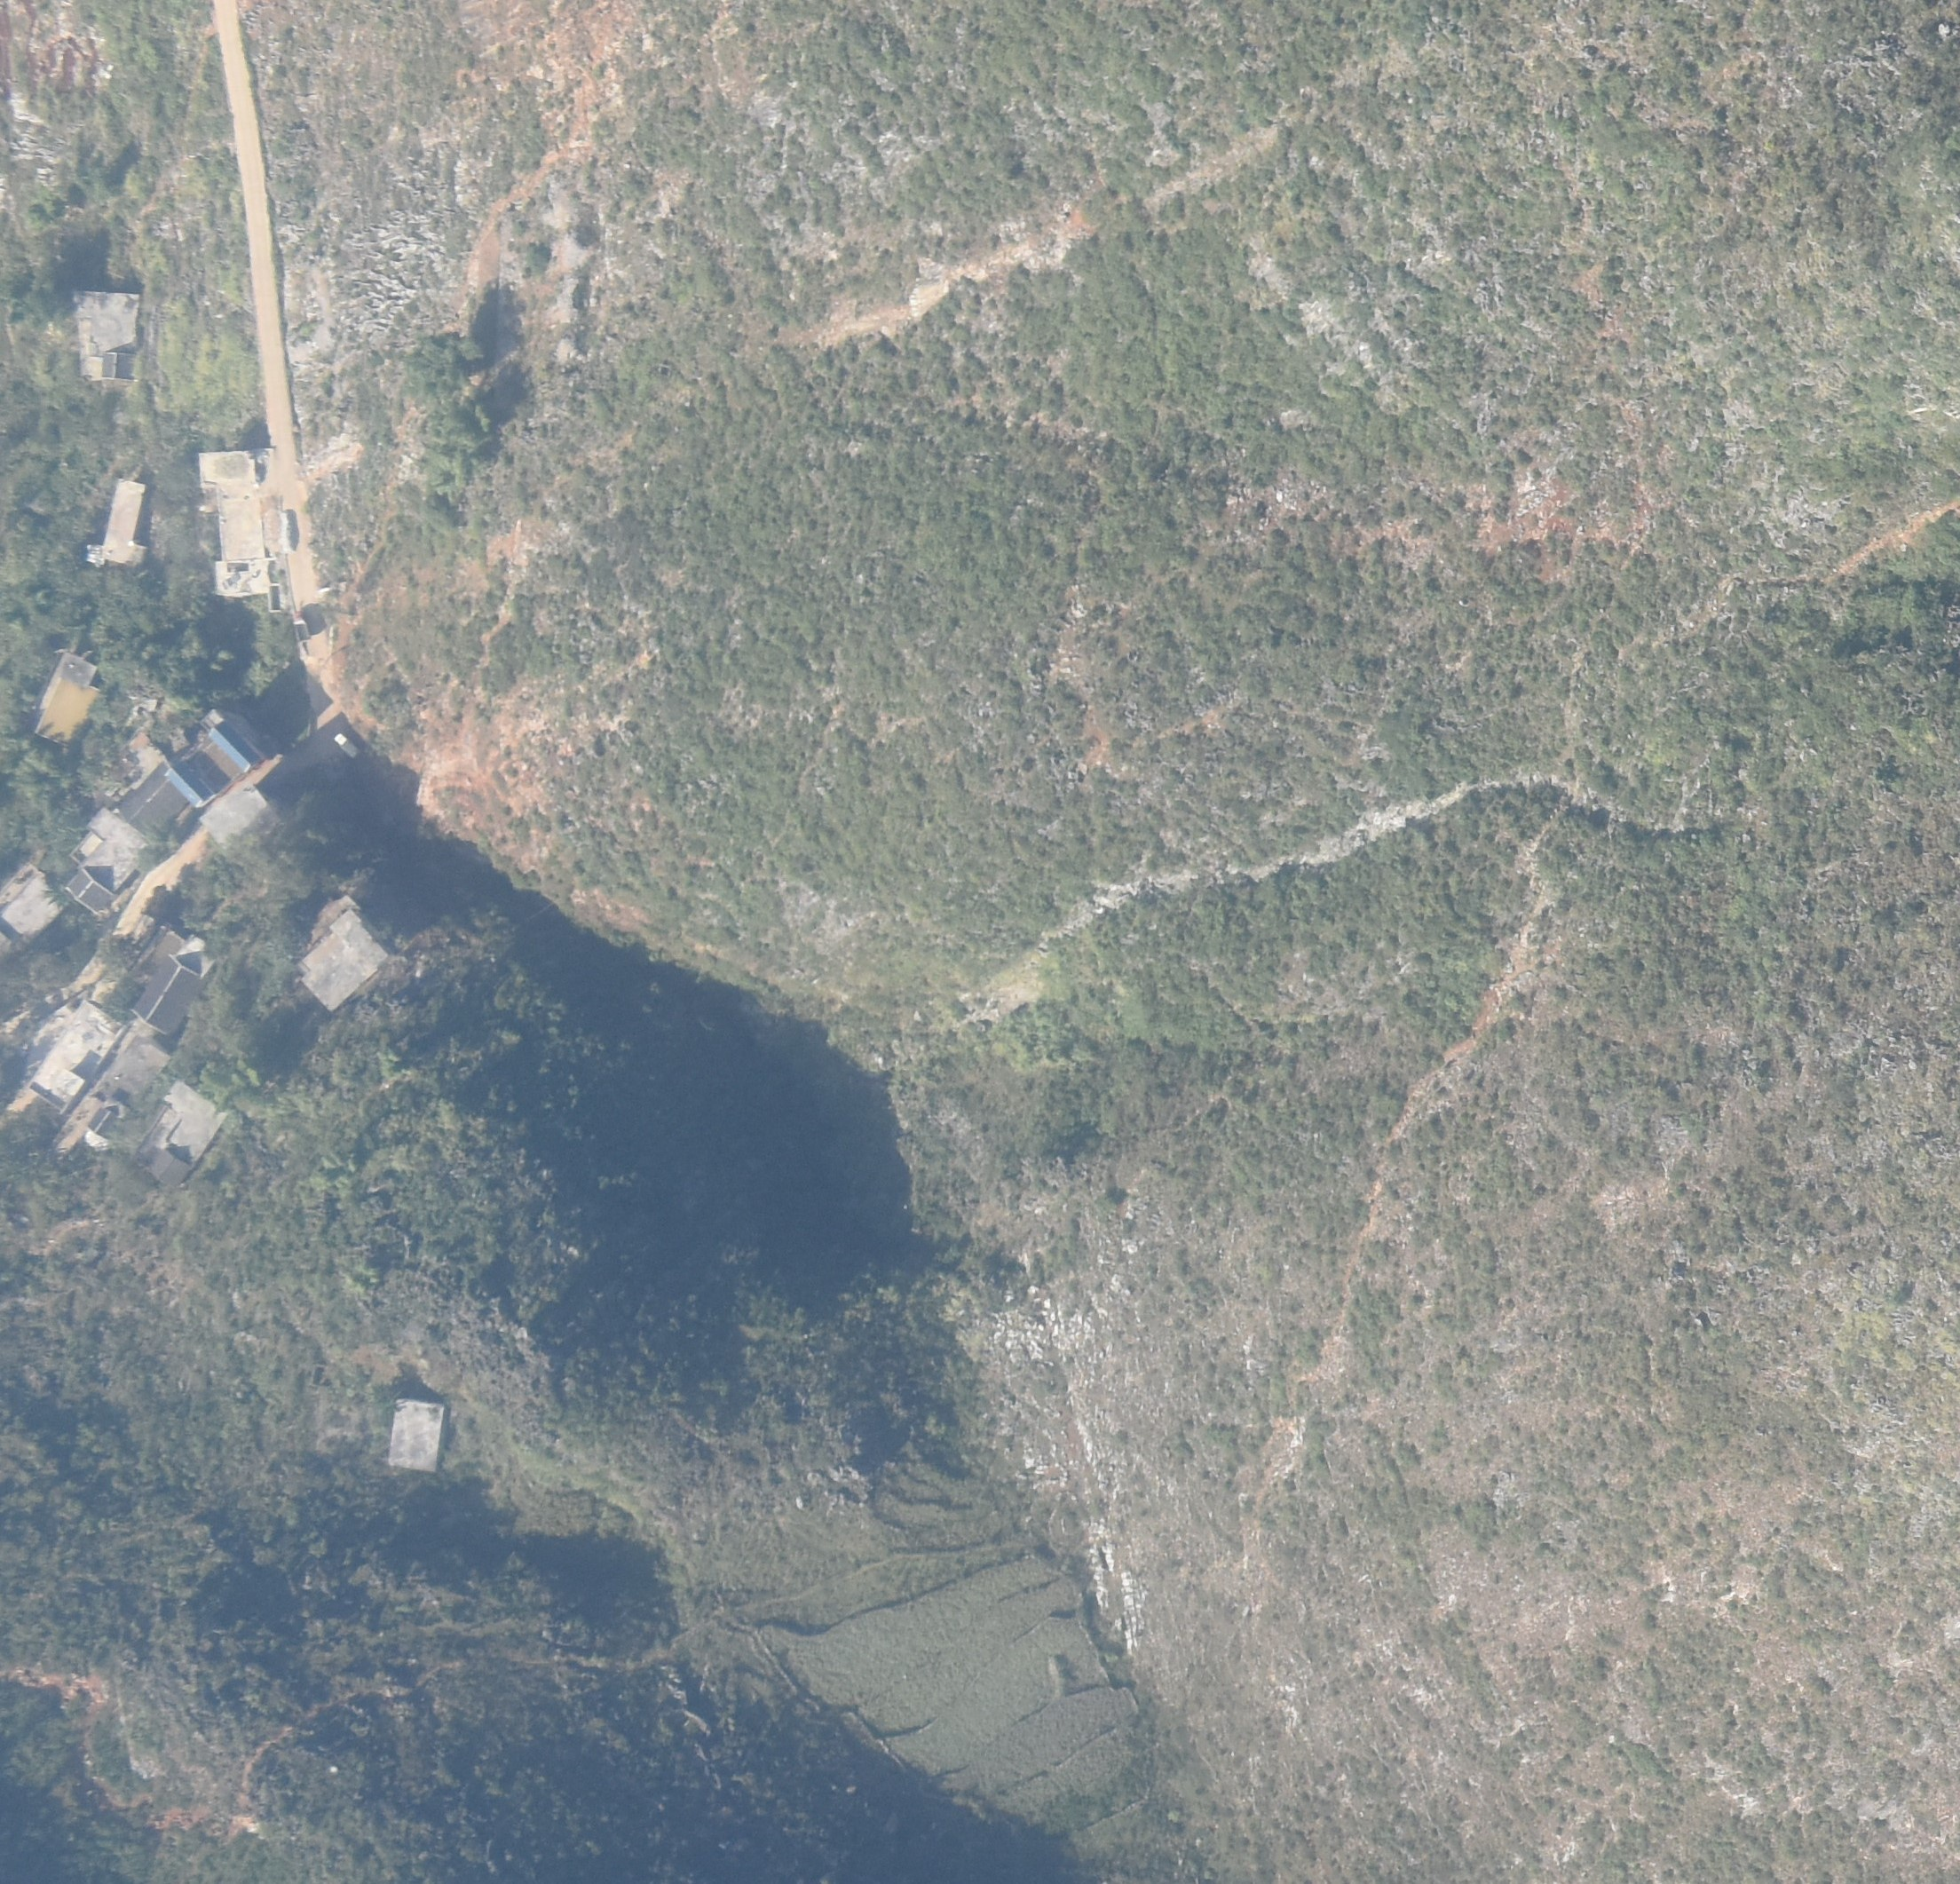building: (196, 777, 318, 926), (54, 1037, 171, 1154), (26, 998, 129, 1108), (294, 898, 390, 1014), (199, 445, 269, 601), (128, 931, 222, 1033), (63, 809, 150, 917), (138, 1082, 229, 1180), (33, 651, 101, 748), (2, 865, 65, 961), (117, 763, 196, 839), (73, 292, 138, 378), (89, 478, 149, 562), (383, 1401, 446, 1473), (206, 725, 266, 774), (166, 762, 215, 805)
vehicle: (334, 732, 360, 760)
